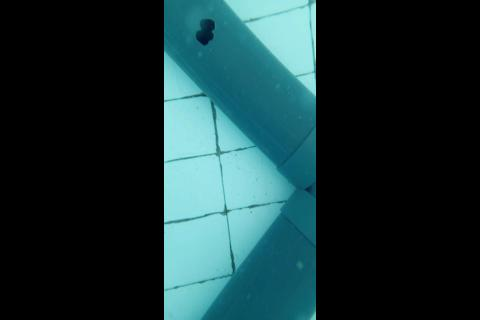kebocoran: (196, 17, 215, 45)
